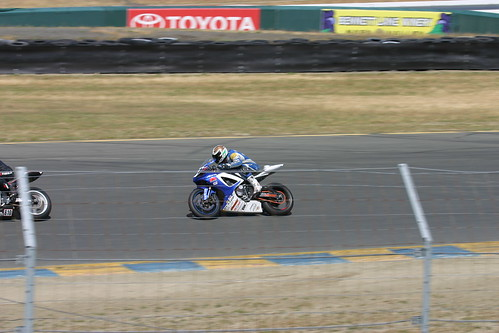helmet: (208, 140, 231, 162)
